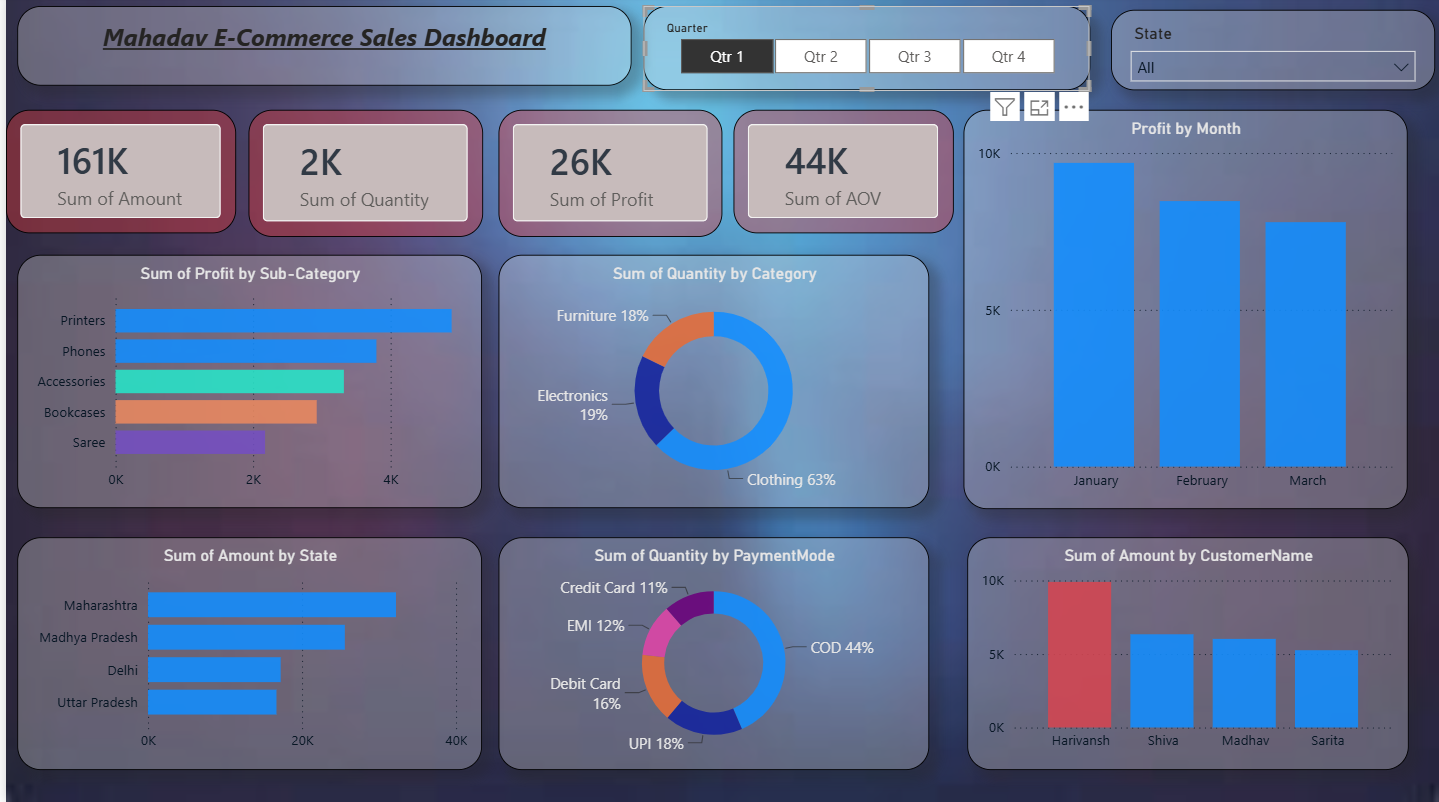

The dashboard page shown, as its layout file describes it:
{"tool":"powerbi","page":{"name":"Page 1","canvas":[1280,720],"ordinal":0},"visuals":[{"type":"textbox","box":[10.5,9.3,548.8,70.9],"z":0},{"type":"columnChart","title":"Profit by Month","fields":{"Category":["Orders (1).Order Date.Variation.Date Hierarchy.Month"],"Y":["Sum(Details (1).Profit)"]},"box":[855.8,101.2,396.5,357],"z":1000},{"type":"barChart","fields":{"Category":["Details (1).Sub-Category"],"Y":["Sum(Details (1).Profit)"]},"box":[10.5,231.4,415.1,226.7],"z":2000},{"type":"donutChart","fields":{"Category":["Details (1).Category"],"Y":["Sum(Details (1).Quantity)"]},"box":[439.5,231.4,384.9,226.7],"z":3000},{"type":"donutChart","fields":{"Category":["Details (1).PaymentMode"],"Y":["Sum(Details (1).Quantity)"]},"box":[439.5,483.7,384.9,208.1],"z":4000},{"type":"cardVisual","fields":{"Data":["Sum(Details (1).Amount)"]},"box":[0,101.2,205.8,110.5],"z":4001},{"type":"cardVisual","fields":{"Data":["Sum(Details (1).Quantity)"]},"box":[216.3,101.2,209.3,114],"z":4002},{"type":"cardVisual","fields":{"Data":["Sum(Details (1).Profit)"]},"box":[439.5,101.2,200,114],"z":4003},{"type":"cardVisual","fields":{"Data":["Sum(Details (1).AOV)"]},"box":[650,101.2,196.5,110.5],"z":4004},{"type":"barChart","fields":{"Category":["Orders (1).State"],"Y":["Sum(Details (1).Amount)"]},"box":[10.5,483.7,415.1,208.1],"z":4005},{"type":"columnChart","fields":{"Y":["Sum(Details (1).Amount)"],"Category":["Orders (1).CustomerName"]},"box":[858.1,483.7,394.2,208.1],"z":4006},{"type":"slicer","fields":{"Values":["Orders (1).Order Date.Variation.Date Hierarchy.Quarter"]},"box":[569.8,9.3,398.8,75.6],"z":4007},{"type":"slicer","fields":{"Values":["Orders (1).State"]},"box":[987.2,12.8,289.5,72.1],"z":4008}]}

Visuals, with their boxes in screenshot pixels (x1, y1, x2, y2), scaled from the page's 1280x720 canvas onto the 1439x802 screenshot:
textbox: [x1=12, y1=10, x2=629, y2=89]
"Profit by Month" columnChart: [x1=962, y1=113, x2=1408, y2=510]
barChart - Details (1).Sub-Category x Sum(Details (1).Profit): [x1=12, y1=258, x2=478, y2=510]
donutChart - Details (1).Category x Sum(Details (1).Quantity): [x1=494, y1=258, x2=927, y2=510]
donutChart - Details (1).PaymentMode x Sum(Details (1).Quantity): [x1=494, y1=539, x2=927, y2=771]
cardVisual - Sum(Details (1).Amount): [x1=0, y1=113, x2=231, y2=236]
cardVisual - Sum(Details (1).Quantity): [x1=243, y1=113, x2=478, y2=240]
cardVisual - Sum(Details (1).Profit): [x1=494, y1=113, x2=719, y2=240]
cardVisual - Sum(Details (1).AOV): [x1=731, y1=113, x2=952, y2=236]
barChart - Orders (1).State x Sum(Details (1).Amount): [x1=12, y1=539, x2=478, y2=771]
columnChart - Sum(Details (1).Amount) x Orders (1).CustomerName: [x1=965, y1=539, x2=1408, y2=771]
slicer - Orders (1).Order Date.Variation.Date Hierarchy.Quarter: [x1=641, y1=10, x2=1089, y2=95]
slicer - Orders (1).State: [x1=1110, y1=14, x2=1435, y2=95]
